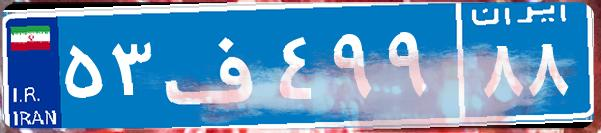3: (110, 28, 158, 105)
4: (273, 28, 330, 110)
5: (57, 26, 110, 107)
8: (475, 38, 525, 113), (525, 38, 570, 115)
9: (385, 28, 445, 110), (330, 28, 385, 110)
ف: (158, 15, 273, 115)
